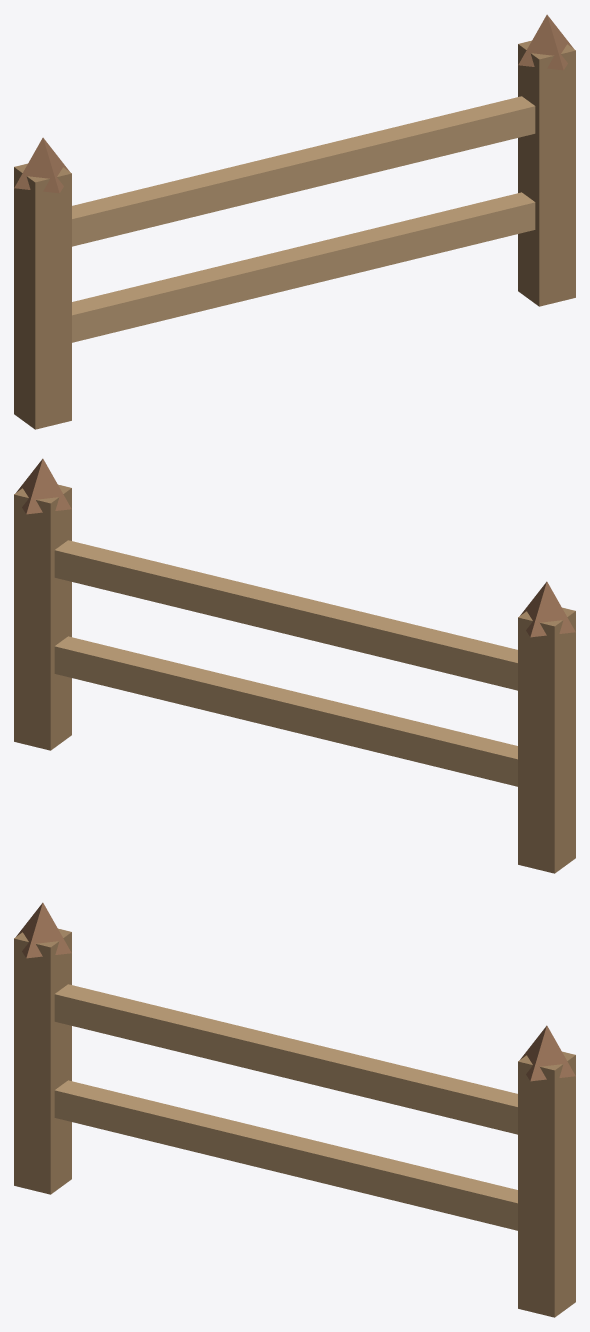
Rendered from fence.glb.
3 renders of one model, top to bottom at view 1: azimuth 30°, elevation 25°; view 2: azimuth 150°, elevation 25°; view 3: azimuth 330°, elevation 25°, orthographic.
Parts seen in each view (by area): view 1: rail.001, rail, post.002, post.003, post_cap, post_cap.001; view 2: rail.001, rail, post.002, post.003, post_cap, post_cap.001; view 3: rail.001, rail, post.003, post.002, post_cap.001, post_cap.
Part boxes in pixels (left/top/right/bottom): rail.001: left=72, top=96, right=535, bottom=246; rail: left=72, top=192, right=535, bottom=342; post.002: left=14, top=163, right=71, bottom=429; post.003: left=518, top=40, right=575, bottom=306; post_cap: left=14, top=137, right=69, bottom=193; post_cap.001: left=518, top=14, right=573, bottom=70; rail.001: left=54, top=540, right=517, bottom=690; rail: left=54, top=636, right=517, bottom=786; post.002: left=518, top=607, right=575, bottom=873; post.003: left=14, top=484, right=71, bottom=750; post_cap: left=520, top=581, right=575, bottom=637; post_cap.001: left=16, top=458, right=71, bottom=514; rail.001: left=54, top=984, right=517, bottom=1134; rail: left=54, top=1080, right=517, bottom=1230; post.003: left=518, top=1051, right=575, bottom=1317; post.002: left=14, top=928, right=71, bottom=1194; post_cap.001: left=520, top=1025, right=575, bottom=1081; post_cap: left=16, top=902, right=71, bottom=958.
Size of the model in its own units: 2.14 by 1.02 by 0.22.
